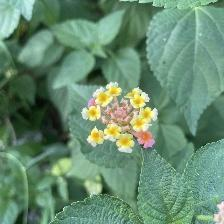common lanthana: (82, 83, 159, 158)
